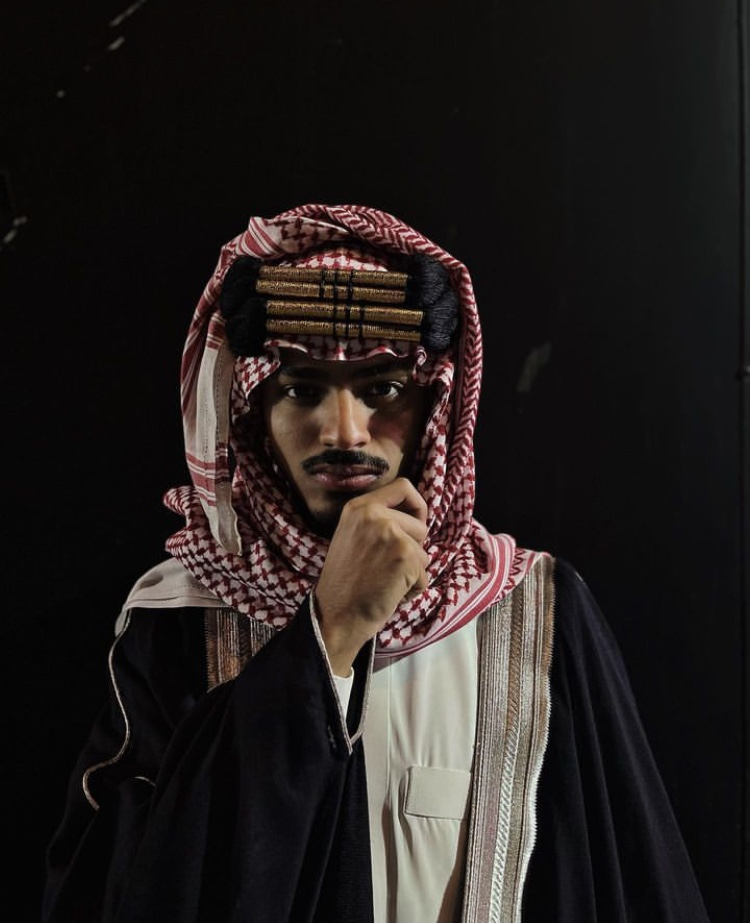Saudi_Founding_Day: (40, 192, 714, 923)
